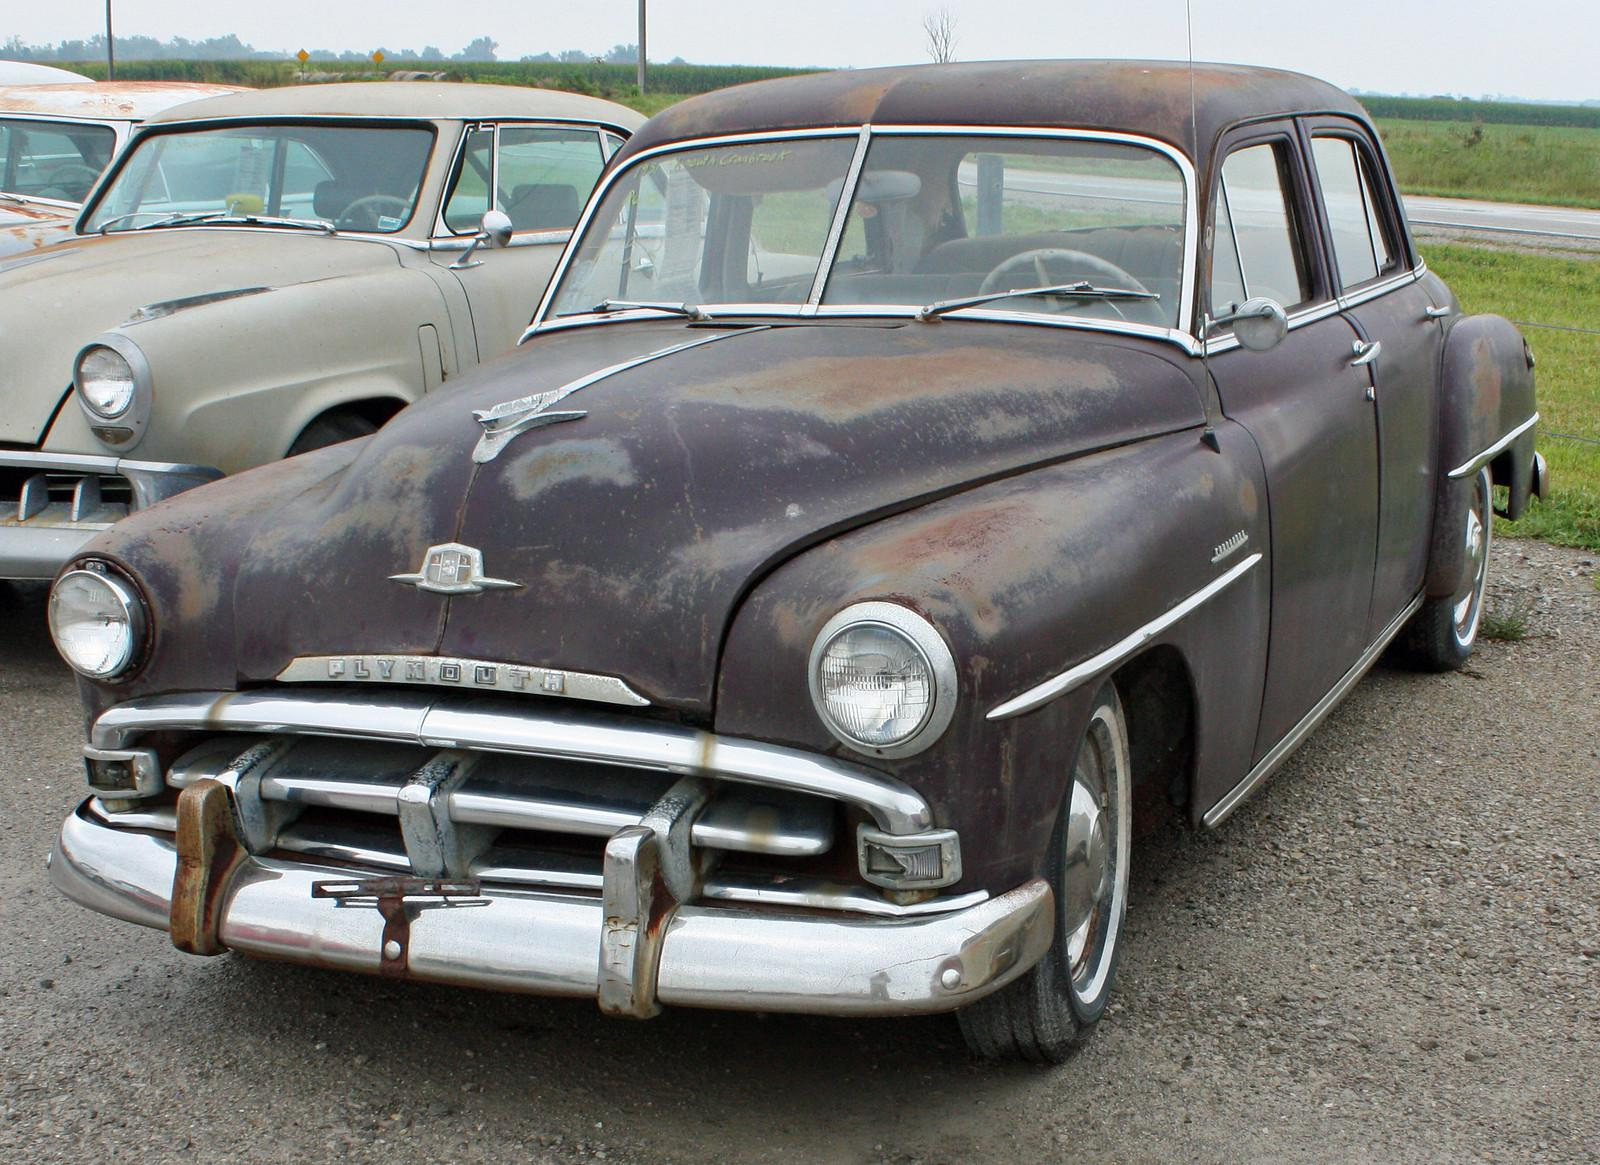bonnet-dent: (318, 366, 840, 710)
